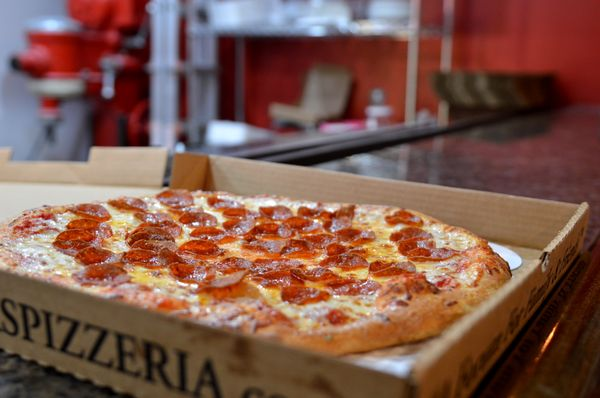sandwich: (0, 188, 539, 356)
